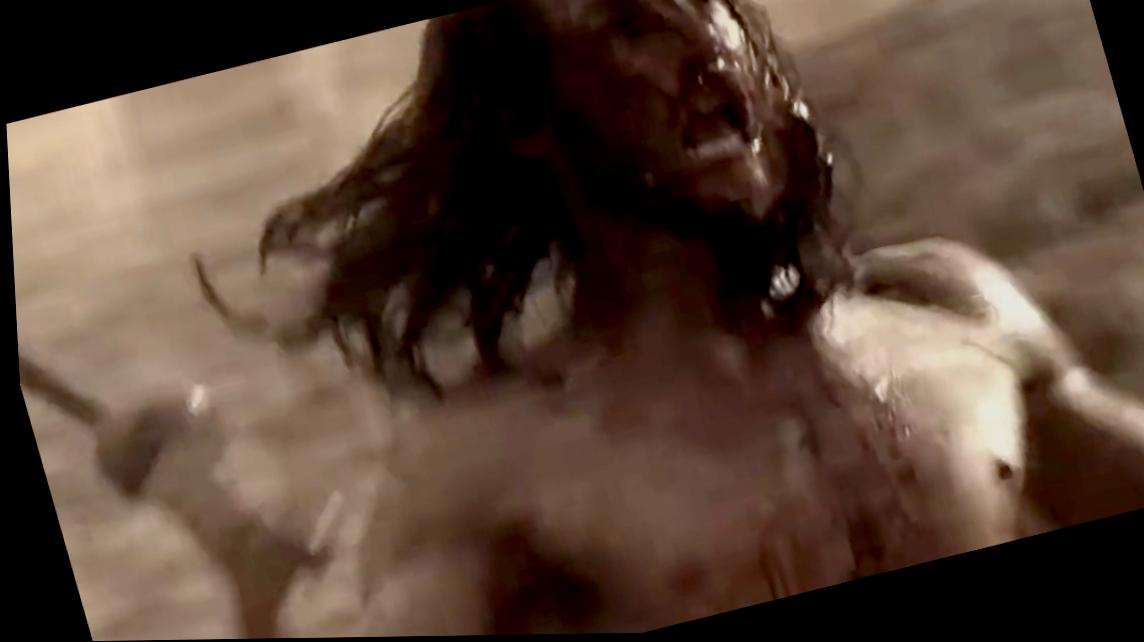Fire: (534, 0, 829, 246), (703, 343, 925, 611)
